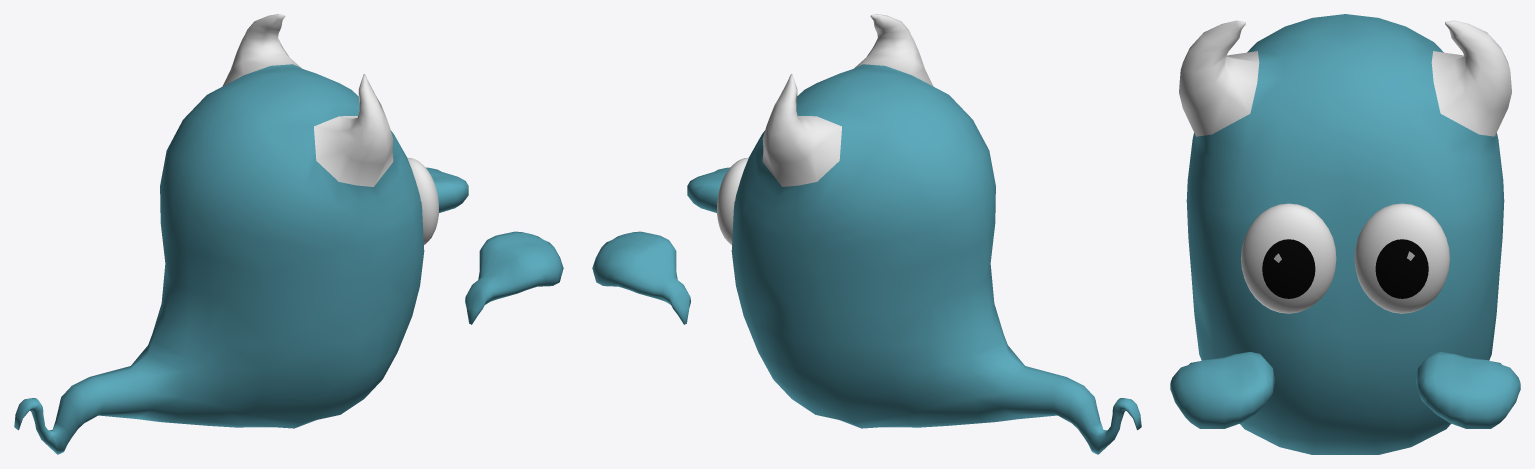
The model's file is Ghost.fbx.
3 views of the same model, side by side, from view 1: azimuth 30°, elevation 25°; view 2: azimuth 150°, elevation 25°; view 3: azimuth 270°, elevation 25° (orthographic). The views are drawn at different scales.
Visible parts, largest first — view 1: Plane.004; view 2: Plane.004; view 3: Plane.004.
Part boxes in pixels (x1,y1,x2,y2): Plane.004: (14, 14, 563, 454); Plane.004: (592, 14, 1141, 454); Plane.004: (1170, 14, 1520, 454).
Size of the model in its own units: 507 by 353 by 248.
